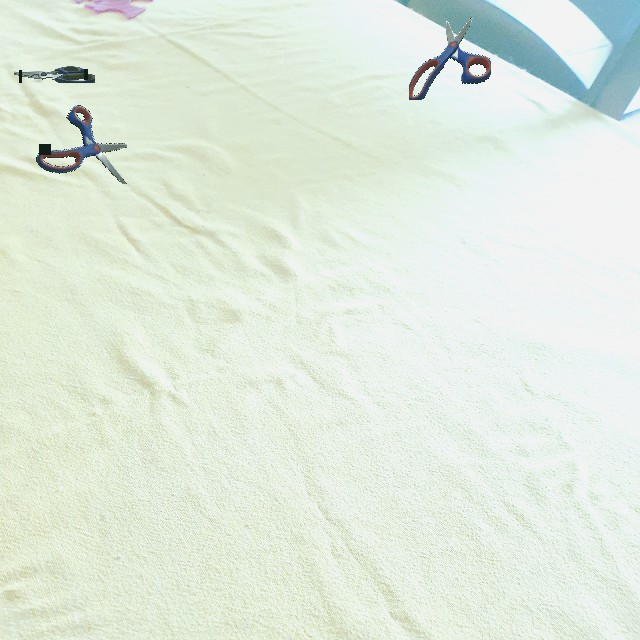scissors: (36, 105, 127, 184), (409, 17, 491, 100), (14, 66, 95, 83)
